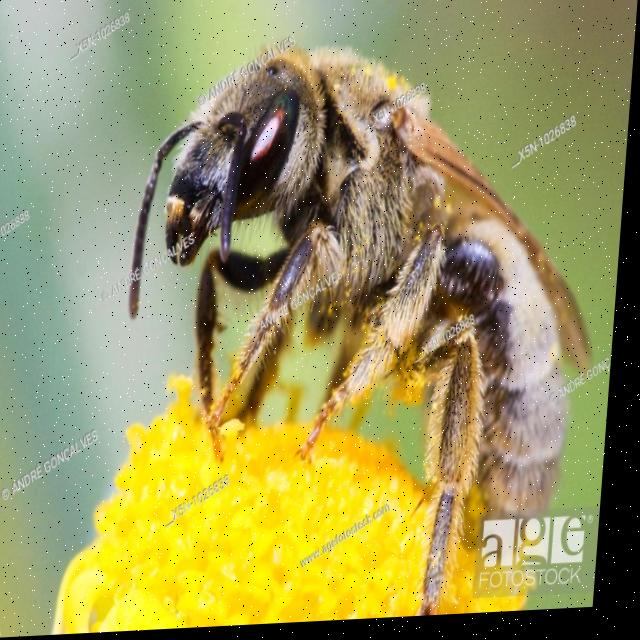Braunsapis: (109, 14, 636, 623)
